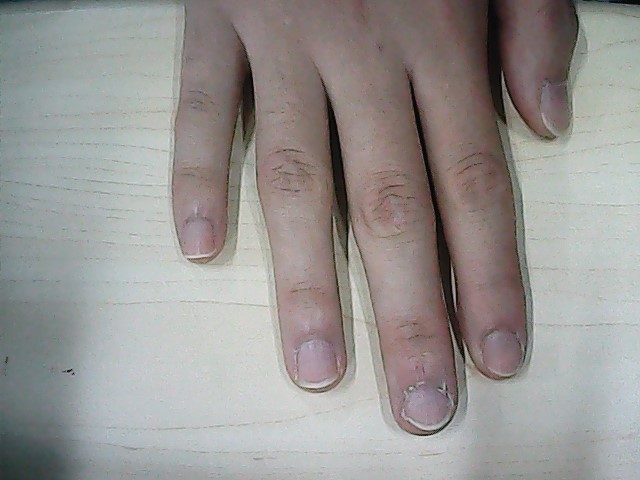nail: (406, 386, 455, 431), (297, 341, 338, 388), (484, 330, 524, 378), (183, 218, 214, 260)
